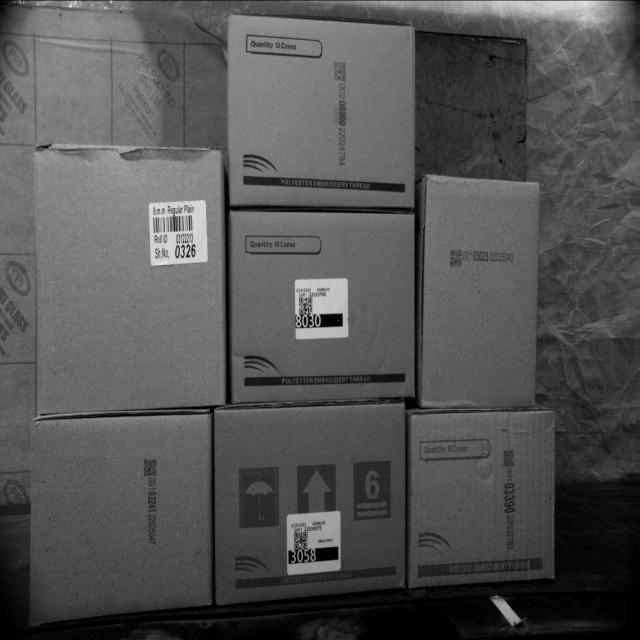cardboxes: (31, 143, 228, 412), (209, 404, 406, 606), (29, 415, 213, 624), (226, 203, 415, 403), (228, 12, 416, 212), (405, 409, 558, 589), (420, 170, 535, 408)
